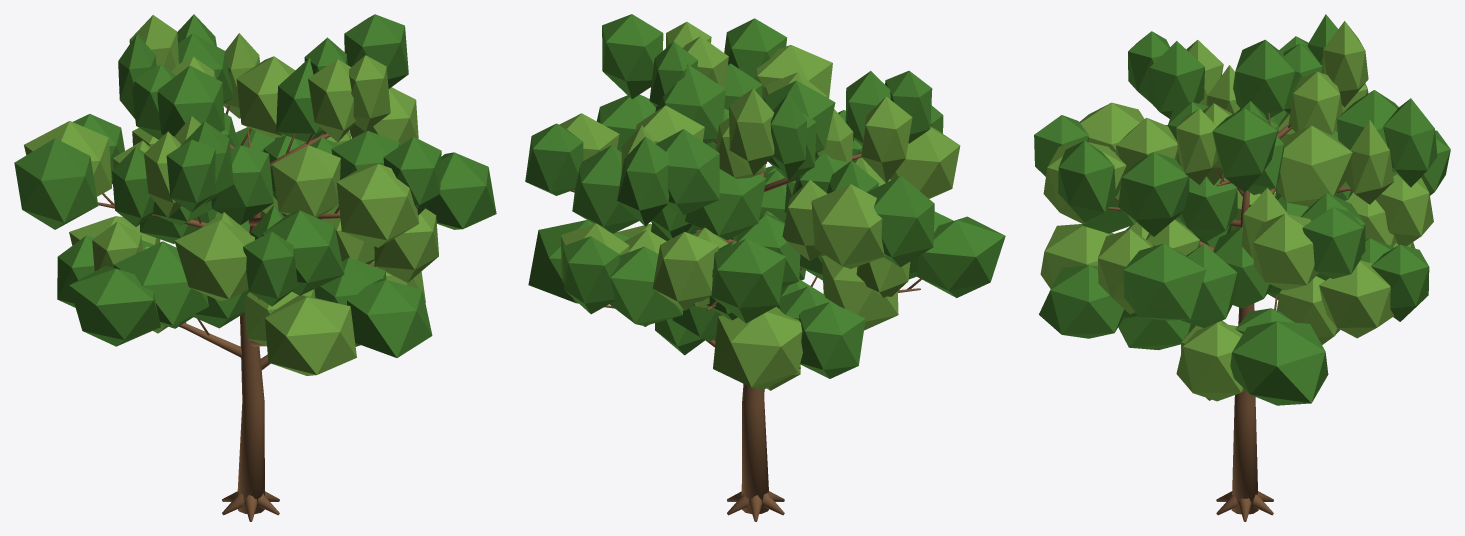
File: tree-oak.glb
3 views of the same model, side by side, from view 1: azimuth 30°, elevation 25°; view 2: azimuth 150°, elevation 25°; view 3: azimuth 270°, elevation 25° (orthographic).
Visible parts, largest first — view 1: Simplified foliage crown, Simplified foliage crown.001, Root flare; view 2: Simplified foliage crown, Simplified foliage crown.001, Root flare; view 3: Simplified foliage crown, Simplified foliage crown.001, Root flare.
Part boxes in pixels (x1,y1,x2,y2): Simplified foliage crown: (14, 14, 496, 357); Simplified foliage crown.001: (24, 15, 438, 375); Root flare: (98, 105, 375, 521); Simplified foliage crown: (525, 14, 1005, 378); Simplified foliage crown.001: (559, 21, 960, 390); Root flare: (570, 137, 922, 521); Simplified foliage crown: (1034, 14, 1450, 405); Simplified foliage crown.001: (1040, 21, 1433, 401); Root flare: (1108, 113, 1393, 521).
Bounding box in the file's own units: 7.92 × 8.77 × 7.12.
